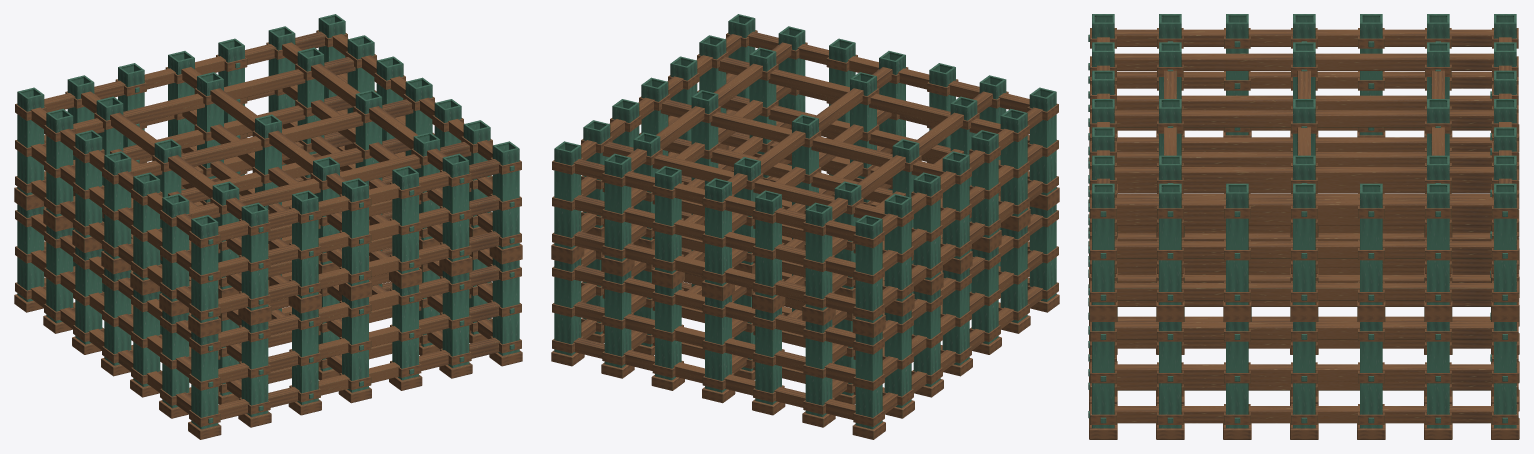
3 renders of one model, left to right at view 1: azimuth 30°, elevation 25°; view 2: azimuth 150°, elevation 25°; view 3: azimuth 270°, elevation 25°, orthographic. The views are drawn at different scales.
Visible parts, largest first — view 1: Tier 1 internal tie 0-0-0-0.84, Tier 1 internal tie 0-0.56-0-0.84, Tier 1 internal tie 0--0.56-0-0.84, Tier 1 tie 0-0-0.5, Tier 0 tie 0-0-0.5, Tier 1 tie 0-0-0.16, Tier 0 tie 0-0-0.16, Tier 1 tie 0-0-0.84, Tier 0 tie 0-0-0.84, Tier 1 tie 2-0-0.84, Tier 1 internal tie 1-0.56-0-0.84, Tier 1 internal tie 1--0.56-0-0.84 (+72 smaller); view 2: Tier 1 internal tie 0-0-0-0.84, Tier 1 internal tie 0--0.56-0-0.84, Tier 1 internal tie 0-0.56-0-0.84, Tier 1 tie 2-0-0.5, Tier 0 tie 2-0-0.5, Tier 1 tie 2-0-0.16, Tier 0 tie 2-0-0.16, Tier 1 tie 2-0-0.84, Tier 0 tie 2-0-0.84, Tier 1 tie 0-0-0.84, Tier 1 internal tie 1-0.56-0-0.84, Tier 1 internal tie 1--0.56-0-0.84 (+72 smaller); view 3: Tier 1 internal tie 1--0.56-0-0.84, Tier 1 internal tie 1-0-0-0.84, Tier 1 internal tie 1-0.56-0-0.84, Tier 1 internal tie 1--0.56-0-0.5, Tier 1 tie 3-0-0.84, Tier 0 tie 1-0-0.84, Tier 1 tie 1-0-0.5, Tier 1 internal tie 1-0-0-0.5, Tier 0 tie 1-0-0.16, Tier 0 tie 1-0-0.5, Tier 1 tie 1-0-0.16, Tier 1 tie 1-0-0.84 (+67 smaller).
Part boxes in pixels (x1,y1,x2,y2): Tier 1 internal tie 0-0-0-0.84: (131,99,413,176); Tier 1 internal tie 0-0.56-0-0.84: (73,57,355,133); Tier 1 internal tie 0--0.56-0-0.84: (189,142,471,218); Tier 1 tie 0-0-0.5: (218,195,500,277); Tier 0 tie 0-0-0.5: (218,301,500,383); Tier 1 tie 0-0-0.16: (218,231,500,313); Tier 0 tie 0-0-0.16: (218,337,500,419); Tier 1 tie 0-0-0.84: (218,159,500,241); Tier 0 tie 0-0-0.84: (218,265,500,347); Tier 1 tie 2-0-0.84: (44,31,326,112); Tier 1 internal tie 1-0.56-0-0.84: (282,42,446,170); Tier 1 internal tie 1--0.56-0-0.84: (81,91,246,219); Tier 1 internal tie 0-0-0-0.84: (660,99,942,176); Tier 1 internal tie 0--0.56-0-0.84: (718,57,1000,133); Tier 1 internal tie 0-0.56-0-0.84: (602,142,884,218); Tier 1 tie 2-0-0.5: (573,195,855,277); Tier 0 tie 2-0-0.5: (573,301,855,383); Tier 1 tie 2-0-0.16: (573,231,855,313); Tier 0 tie 2-0-0.16: (573,337,855,419); Tier 1 tie 2-0-0.84: (573,159,855,241); Tier 0 tie 2-0-0.84: (573,265,855,347); Tier 1 tie 0-0-0.84: (747,31,1029,112); Tier 1 internal tie 1-0.56-0-0.84: (627,42,791,170); Tier 1 internal tie 1--0.56-0-0.84: (827,91,992,219); Tier 1 internal tie 1--0.56-0-0.84: (1114,53,1493,70); Tier 1 internal tie 1-0-0-0.84: (1114,110,1493,127); Tier 1 internal tie 1-0.56-0-0.84: (1114,167,1493,183); Tier 1 internal tie 1--0.56-0-0.5: (1114,95,1493,110); Tier 1 tie 3-0-0.84: (1114,29,1493,46); Tier 0 tie 1-0-0.84: (1114,322,1493,339); Tier 1 tie 1-0-0.5: (1114,241,1493,258); Tier 1 internal tie 1-0-0-0.5: (1114,152,1493,166); Tier 0 tie 1-0-0.16: (1114,406,1493,423); Tier 0 tie 1-0-0.5: (1114,364,1493,381); Tier 1 tie 1-0-0.16: (1114,283,1493,300); Tier 1 tie 1-0-0.84: (1114,199,1493,216).
Size of the model in its own units: 1.8 by 1.13 by 1.8.
Materials: 2 (2 with a texture image).
